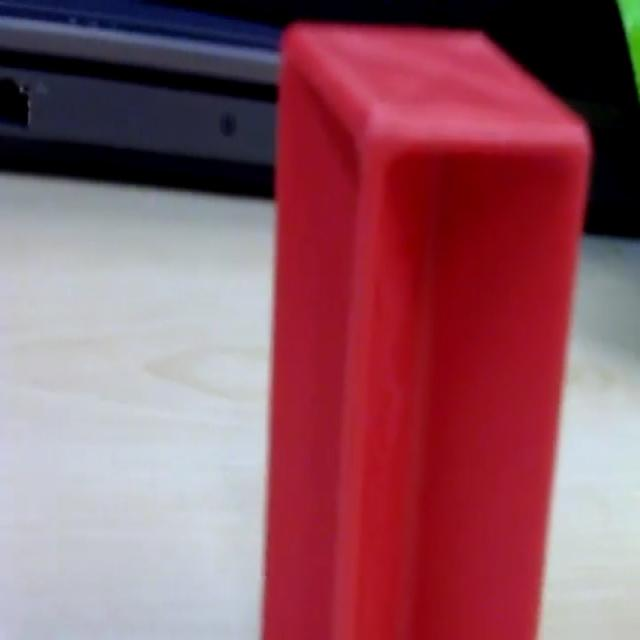red_block: (260, 19, 593, 636)
